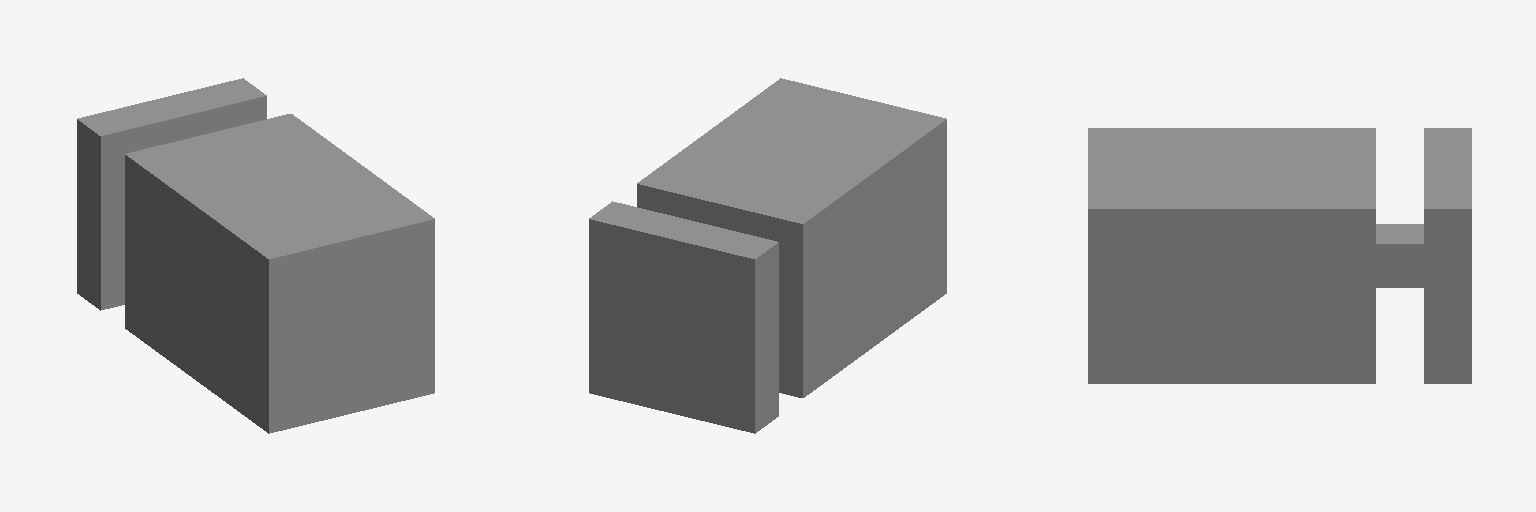
The model's file is itempusher.obj.
3 views of the same model, side by side, from view 1: azimuth 30°, elevation 25°; view 2: azimuth 150°, elevation 25°; view 3: azimuth 270°, elevation 25° (orthographic).
Parts seen in each view (by area): view 1: Cube; view 2: Cube; view 3: Cube.
Boxes of the visible parts, x1=… form: Cube: x1=77, y1=78, x2=434, y2=433; Cube: x1=589, y1=78, x2=946, y2=433; Cube: x1=1088, y1=128, x2=1471, y2=383.
Size of the model in its own units: 0.5 by 0.5 by 1.